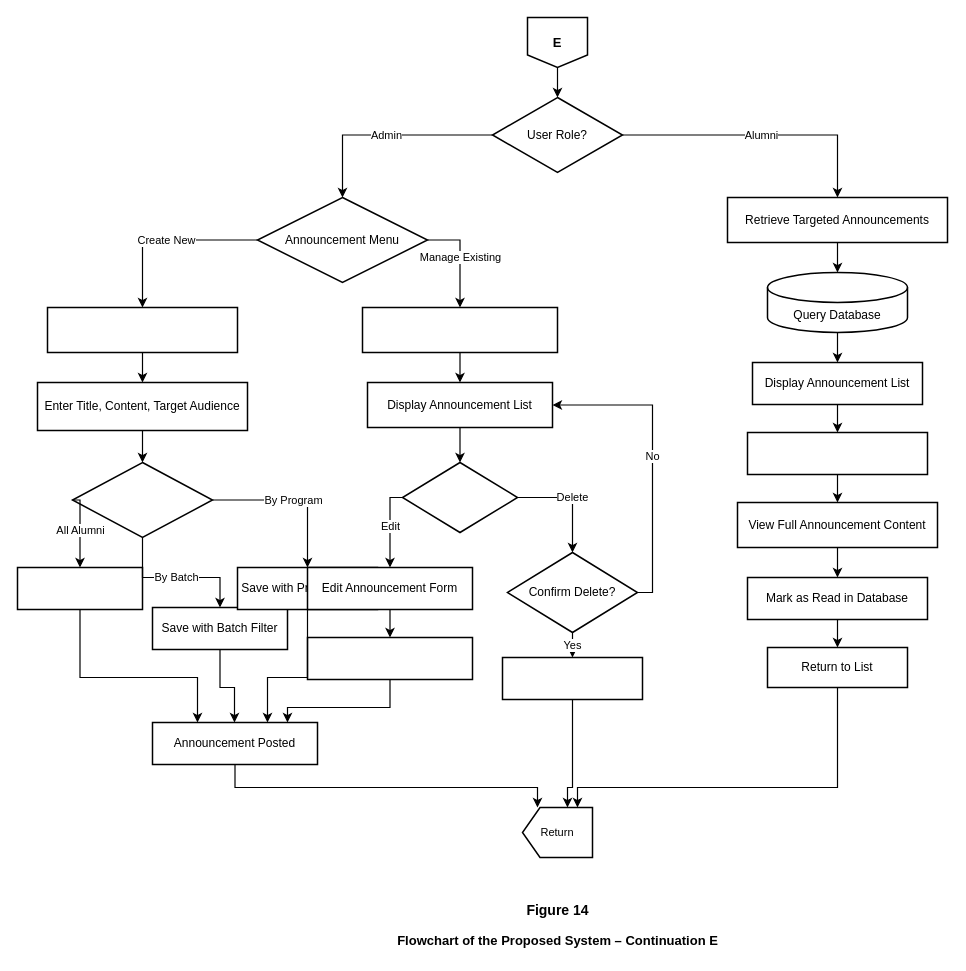
Image size: 966x971. Some labels were removed from this diagram. The shapes that lost their labels are listed below. From the top down, each one's box as (x1, y1, x2, y2) in pixels, then its label:
(46, 306, 238, 353): Fill Announcement Form
(361, 306, 558, 353): Retrieve All Announcements
(746, 431, 928, 475): Select an Announcement
(71, 461, 213, 538): Target Audience?
(401, 461, 518, 533): Action?
(16, 566, 143, 610): Save to Database
(306, 636, 473, 680): Update Database Record
(501, 656, 643, 700): Delete from Database
